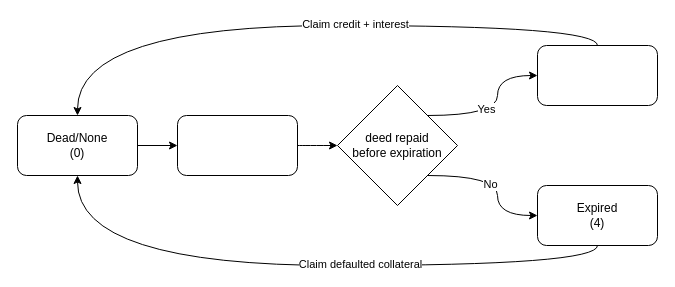
This 675x287 diagram has some shape labels left out. Here are the shapes that lost their labels. From the top down, the centre of each, then its label:
At point (597, 75): "Paid back (3)".
At point (237, 145): "Running (2)".
